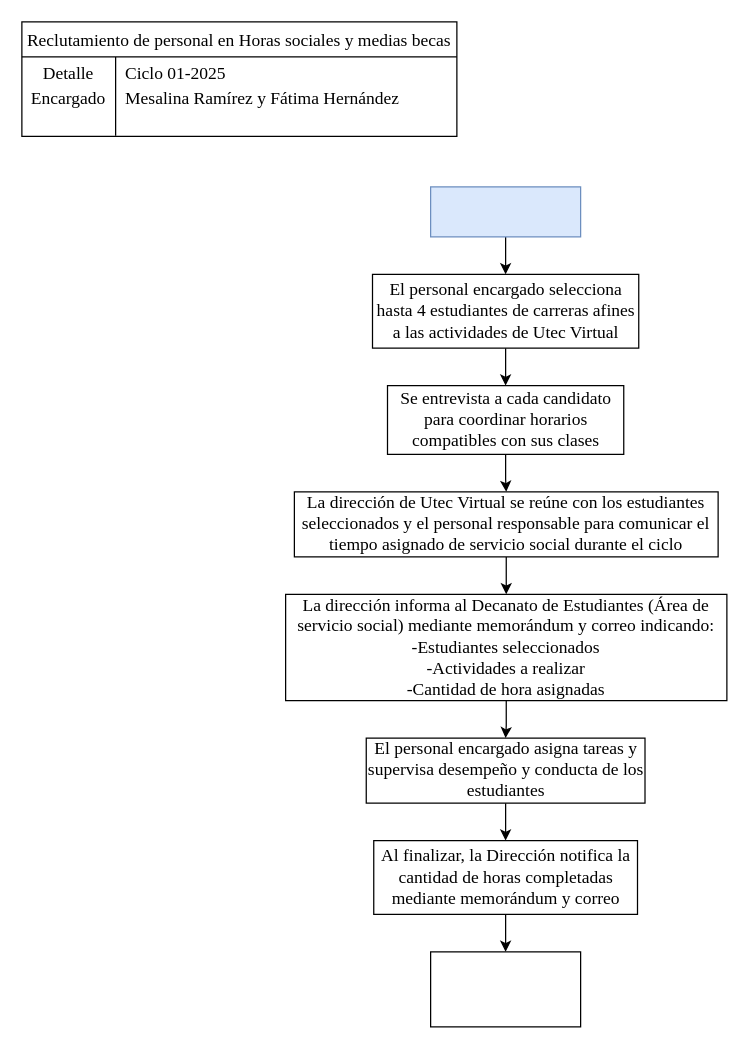
The diagram is 749 pixels wide and 1049 high, and some of its shapes have lost their labels. Here are the shapes that lost their labels. From the top down, the centre of each, then its label:
pixel 505 211: Procedimiento para Horas Sociales
pixel 505 989: La dirección lleva registro y archivo de toda la gestión
